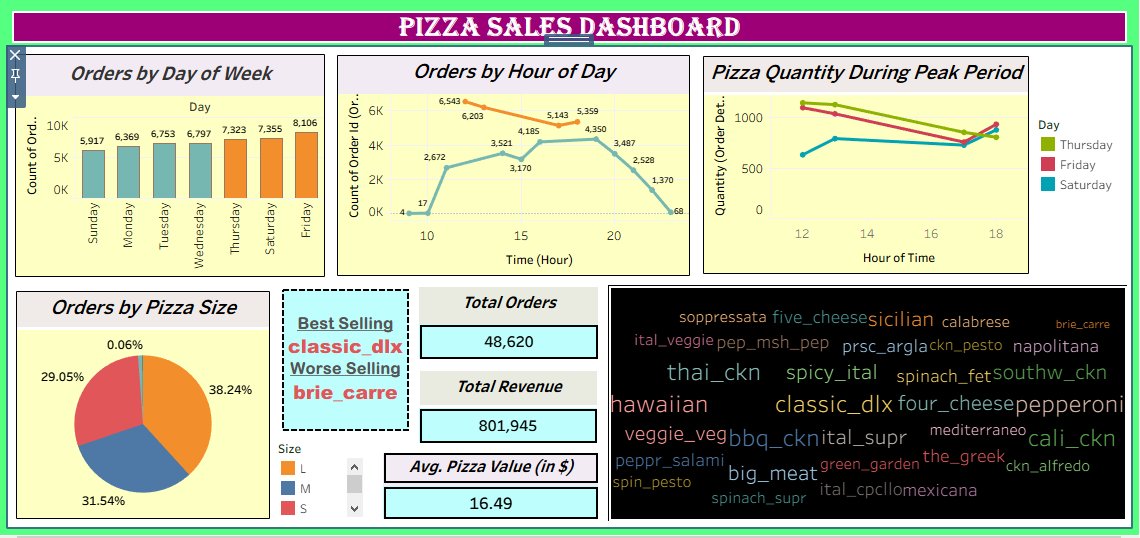

This screenshot's page, from the dashboard's own definition file:
{"tool":"tableau","page":{"name":"Dashboard 1","canvas":[1000,1000],"units":"permille","ordinal":0},"visuals":[{"type":"title","box":[7,14.9,985.9,74.6]},{"type":"worksheet","title":"Sheet 1","mark":"Bar","rows":["order_id (orders.csv)"],"cols":["Calculation_394346492905824259"],"box":[13.2,102.6,272.2,416]},{"type":"worksheet","title":"Sheet 2","mark":"Automatic","rows":["order_id (orders.csv)"],"cols":["Calculation_394346492910014469"],"box":[296,104.5,310.1,412.3]},{"type":"worksheet","title":"Sheet 3","mark":"Automatic","rows":["quantity (order_details.csv1)"],"cols":["time"],"box":[617.6,106.3,286.3,406.7]},{"type":"legend","title":"Sheet 3","param":"[federated.0osg03907l99om17cupjh0794jaj].[none:Calculation_394346492905824259:nk","box":[911,218.3,77.5,201.5]},{"type":"worksheet","title":"Sheet 4","mark":"Text","box":[533.9,533.6,455.5,440.3]},{"type":"worksheet","title":"Sheet 7","mark":"Automatic","box":[368.3,537.3,156.8,134.3]},{"type":"text","box":[247.6,541,111.9,264.9]},{"type":"worksheet","title":"Sheet 6","mark":"Pie","box":[14.1,544.8,222.9,425.4]},{"type":"worksheet","title":"Sheet 8","mark":"Automatic","box":[368.3,694,156,134.3]},{"type":"legend","title":"Sheet 6","param":"[federated.0osg03907l99om17cupjh0794jaj].[none:size:nk]","box":[244.1,822.8,76.7,143.7]},{"type":"worksheet","title":"Sheet 5","mark":"Text","box":[336.6,847,188.6,123.1]}]}

Visuals, with their boxes on the dashboard's canvas, which has no fixed pixel size, in thousandths of its width and height (x1, y1, x2, y2). These are canvas units, not pixel positions in the 1140x538 screenshot, which may show the page scaled, cropped or inside an application window:
title: BBox(7, 15, 993, 90)
"Sheet 1" worksheet (Bar marks): BBox(13, 103, 285, 519)
"Sheet 2" worksheet: BBox(296, 104, 606, 517)
"Sheet 3" worksheet: BBox(618, 106, 904, 513)
"Sheet 3" legend: BBox(911, 218, 988, 420)
"Sheet 4" worksheet (Text marks): BBox(534, 534, 989, 974)
"Sheet 7" worksheet: BBox(368, 537, 525, 672)
text: BBox(248, 541, 360, 806)
"Sheet 6" worksheet (Pie marks): BBox(14, 545, 237, 970)
"Sheet 8" worksheet: BBox(368, 694, 524, 828)
"Sheet 6" legend: BBox(244, 823, 321, 966)
"Sheet 5" worksheet (Text marks): BBox(337, 847, 525, 970)
